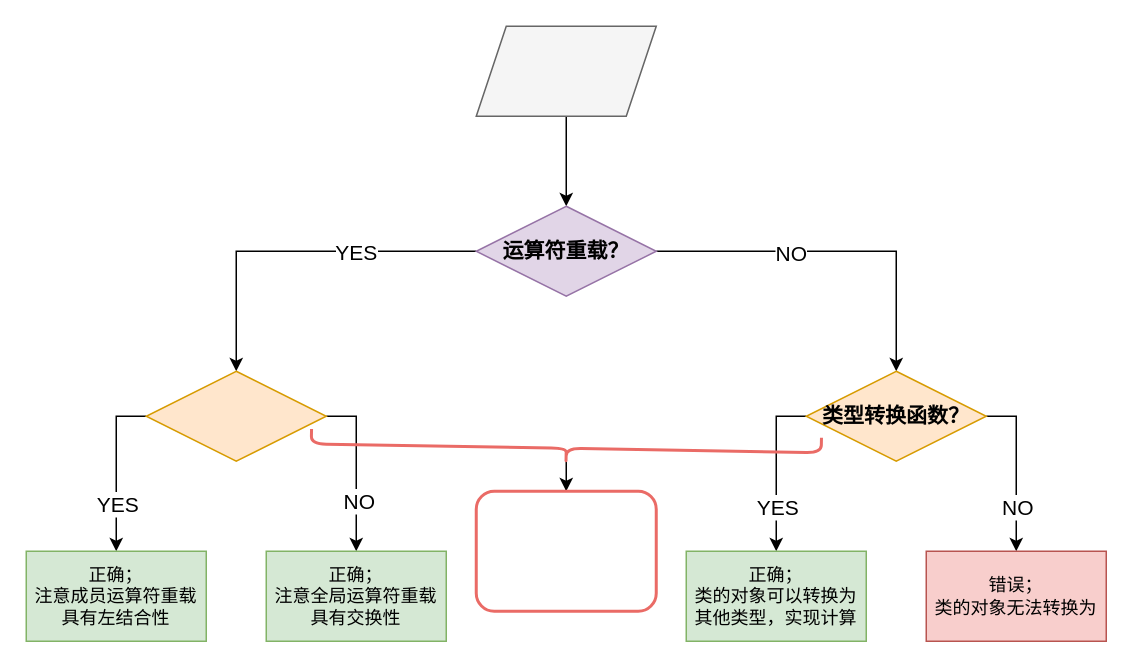
This 1133x668 diagram has some shape labels left out. Each missing label, with the centre of its shape:
成员 运算符重载？: pixel 235 415
类使用运算符 A a; auto c = a + 2;: pixel 565 70
运算符重载和类型转换函数同时存在 编译器会混淆，无法确定应该走类型转换还是走运算符重载: pixel 565 550
